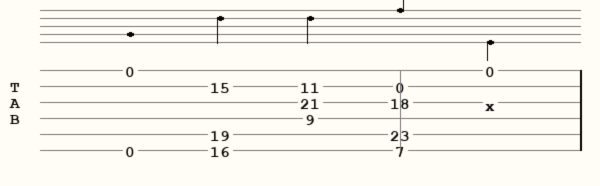0: (125, 63, 139, 77), (125, 143, 139, 157), (395, 79, 409, 93), (485, 63, 499, 77)
11: (300, 79, 324, 93)
15: (210, 79, 234, 93)
16: (210, 143, 234, 157)
18: (390, 95, 414, 109)
19: (210, 127, 234, 141)
21: (300, 95, 324, 109)
23: (390, 127, 414, 141)
7: (395, 143, 409, 157)
9: (305, 111, 319, 125)
x: (485, 97, 499, 108)
